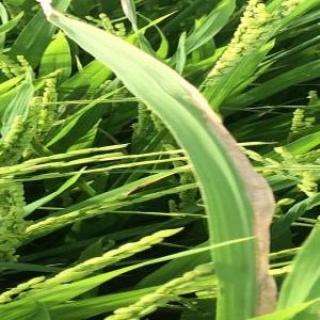Hawar-Daun: (65, 18, 279, 313)
